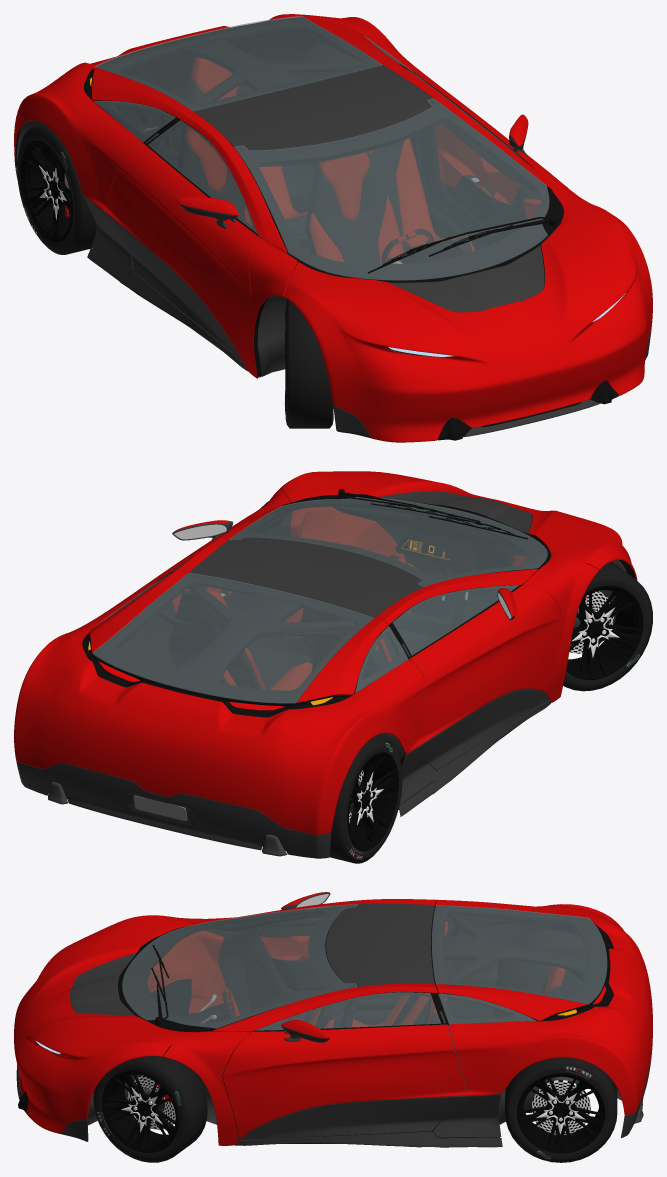
The model's file is car-concept-gt.glb.
3 views of the same model, one above another, from view 1: azimuth 30°, elevation 25°; view 2: azimuth 150°, elevation 25°; view 3: azimuth 270°, elevation 25° (orthographic). The views are drawn at different scales.
Parts seen in each view (by area): view 1: BodyHood, BodyWindshield, BodyRearwindow, BodyDoorRColor1, BodyRearPanelsColor1, BodyRoofPanel, BodyWindshieldGasket, InteriorSeatsColor1, InteriorSeatsColor2, BodyPillars, InteriorPillar, InteriorRearHatch (+21 smaller); view 2: BodyRearPanelsColor1, BodyRearwindow, BodyWindshield, BodyDoorRColor1, BodyPanelsColor2, BodyRoofPanel, BodyHood, InteriorRearHatch, BodyPillars, InteriorPillar, InteriorDashMid, BodyWindshieldGasket (+22 smaller); view 3: BodyWindshield, BodyRearPanelsColor1, BodyDoorLColor1, BodyHood, BodyRearwindow, BodyRoofPanel, BodyPillars, BodyWindshieldGasket, BodyDoorLColor2, BodyPanelsColor2, WheelFrontL, InteriorRearHatch (+25 smaller).
Part boxes in pixels (x1,y1,x2,y2): BodyHood: (283,198,652,442); BodyWindshield: (234,98,549,280); BodyRearwindow: (94,16,382,111); BodyDoorRColor1: (104,143,257,362); BodyRearPanelsColor1: (14,14,428,210); BodyRoofPanel: (193,65,432,150); BodyWindshieldGasket: (234,99,563,282); InteriorSeatsColor1: (185,57,475,264); InteriorSeatsColor2: (180,78,472,264); BodyPillars: (176,61,598,378); InteriorPillar: (158,37,434,168); InteriorRearHatch: (93,17,383,117); BodyRearPanelsColor1: (14,569,425,834); BodyRearwindow: (92,572,373,703); BodyWindshield: (229,497,547,587); BodyDoorRColor1: (409,585,562,742); BodyPanelsColor2: (16,700,550,858); BodyRoofPanel: (189,537,422,617); BodyHood: (279,471,637,580); InteriorRearHatch: (93,573,386,707); BodyPillars: (175,489,599,702); InteriorPillar: (174,574,417,682); InteriorDashMid: (332,502,528,622); BodyWindshieldGasket: (230,497,550,587); BodyWindshield: (122,904,358,1028); BodyRearPanelsColor1: (436,899,652,1115); BodyDoorLColor1: (222,1024,467,1139); BodyHood: (14,915,196,1133); BodyRearwindow: (431,905,607,1004); BodyRoofPanel: (326,903,434,986); BodyPillars: (163,899,437,1145); BodyWindshieldGasket: (118,905,357,1032); BodyDoorLColor2: (240,1096,467,1140); BodyPanelsColor2: (16,1050,652,1147); WheelFrontL: (93,1054,207,1162); InteriorRearHatch: (431,905,606,1020).
Bounding box in the file's own units: 2.54 × 1.15 × 4.36.
23 materials, 3 textured.
